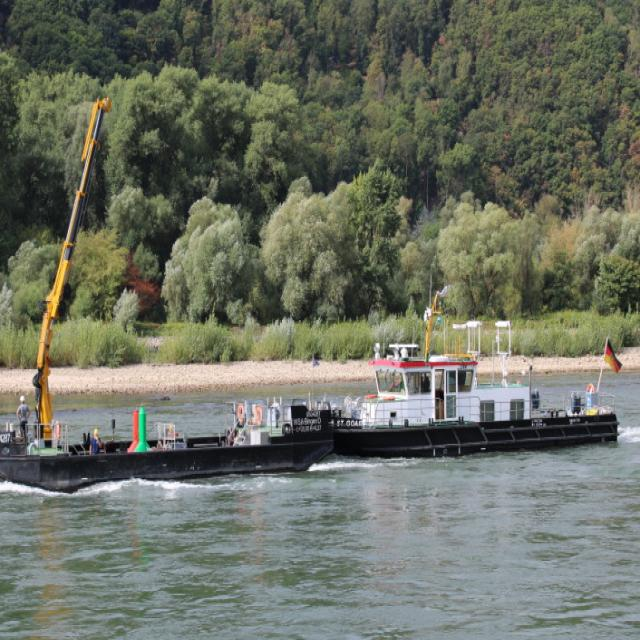tugboat: (327, 274, 632, 474)
